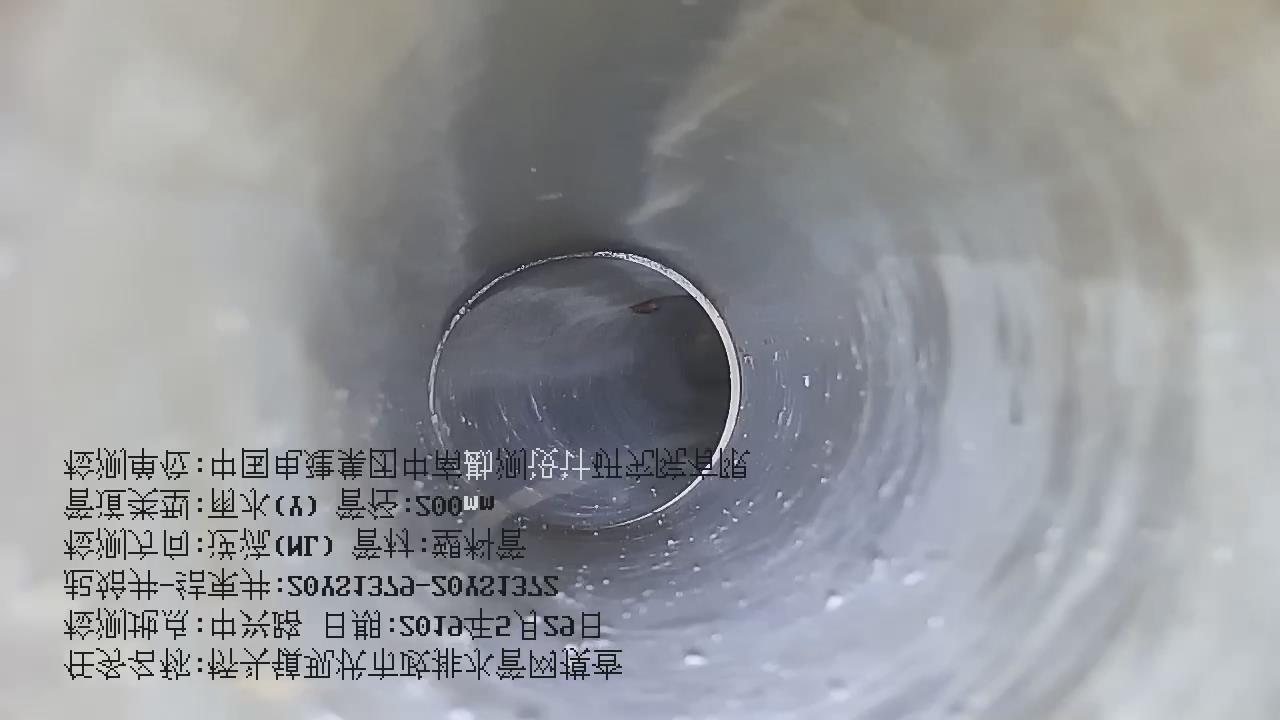CKTJ: (427, 251, 742, 527)
